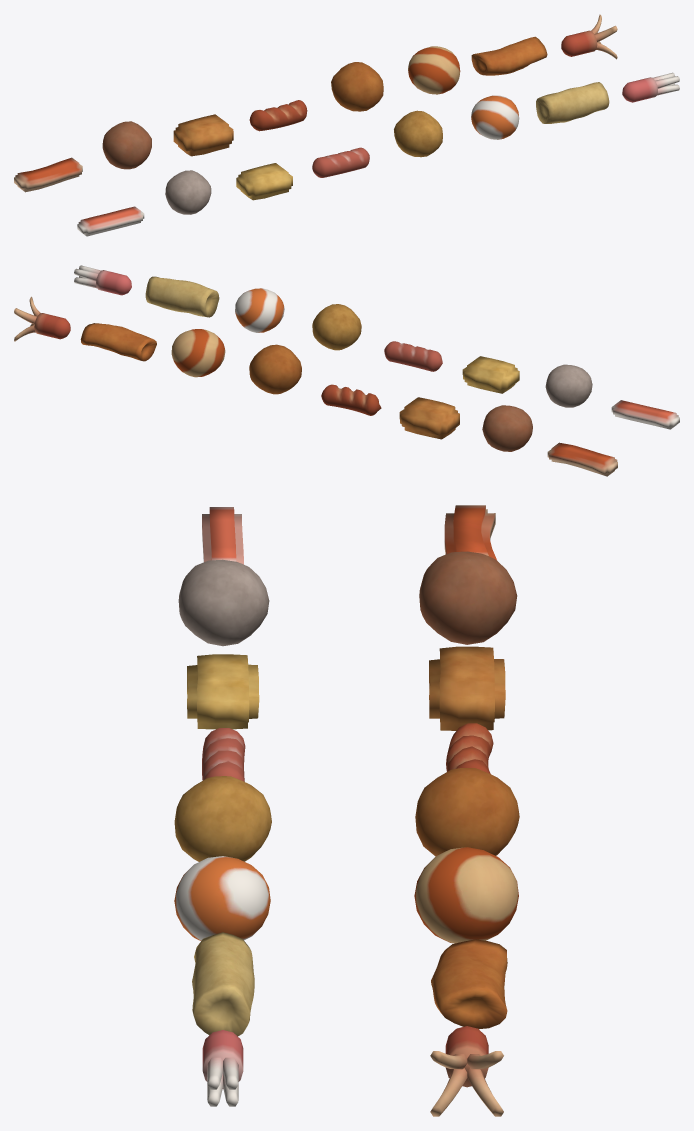
Rendered from Phase2_Meatballs_P1.glb.
The picture shows the model from 3 angles, top to bottom: view 1: azimuth 30°, elevation 25°; view 2: azimuth 150°, elevation 25°; view 3: azimuth 270°, elevation 25°; orthographic projection. The views are drawn at different scales.
Visible parts, largest first — view 1: FriedTofuSkinRoll_Raw, FriedFishBall_Cooked, StripedFishBall_Cooked, FishTofu_Cooked, PorkBall_Cooked, FriedTofuSkinRoll_Cooked, FriedFishBall_Raw, StripedFishBall_Raw, PorkBall_Raw, FishTofu_Raw, CrabStick_Cooked, Sausage_Cooked (+4 smaller); view 2: FriedTofuSkinRoll_Raw, StripedFishBall_Cooked, FriedFishBall_Cooked, FishTofu_Cooked, PorkBall_Cooked, FriedTofuSkinRoll_Cooked, FriedFishBall_Raw, StripedFishBall_Raw, PorkBall_Raw, FishTofu_Raw, CrabStick_Cooked, Sausage_Cooked (+4 smaller); view 3: StripedFishBall_Cooked, FriedFishBall_Cooked, PorkBall_Cooked, FriedFishBall_Raw, StripedFishBall_Raw, PorkBall_Raw, FishTofu_Cooked, FriedTofuSkinRoll_Cooked, FriedTofuSkinRoll_Raw, FishTofu_Raw, CuttlefishSausage_Cooked, CuttlefishSausage_Raw (+4 smaller).
Part boxes in pixels (<box>): FriedTofuSkinRoll_Raw: <box>536,82,609,123</box>; FriedFishBall_Cooked: <box>331,62,383,111</box>; StripedFishBall_Cooked: <box>408,46,460,94</box>; FishTofu_Cooked: <box>173,114,233,156</box>; PorkBall_Cooked: <box>102,121,151,169</box>; FriedTofuSkinRoll_Cooked: <box>471,36,547,75</box>; FriedFishBall_Raw: <box>394,110,442,157</box>; StripedFishBall_Raw: <box>471,95,519,139</box>; PorkBall_Raw: <box>165,170,211,214</box>; FishTofu_Raw: <box>236,163,292,200</box>; CrabStick_Cooked: <box>14,157,82,192</box>; Sausage_Cooked: <box>249,100,307,131</box>; FriedTofuSkinRoll_Raw: <box>145,276,219,317</box>; StripedFishBall_Cooked: <box>171,329,225,377</box>; FriedFishBall_Cooked: <box>249,344,301,394</box>; FishTofu_Cooked: <box>399,397,459,439</box>; PorkBall_Cooked: <box>482,405,532,451</box>; FriedTofuSkinRoll_Cooked: <box>80,323,156,361</box>; FriedFishBall_Raw: <box>312,304,361,350</box>; StripedFishBall_Raw: <box>235,288,284,332</box>; PorkBall_Raw: <box>545,364,592,407</box>; FishTofu_Raw: <box>462,356,519,393</box>; CrabStick_Cooked: <box>547,442,617,476</box>; Sausage_Cooked: <box>321,384,381,415</box>; StripedFishBall_Cooked: <box>414,847,518,943</box>; FriedFishBall_Cooked: <box>415,768,519,856</box>; PorkBall_Cooked: <box>419,551,517,644</box>; FriedFishBall_Raw: <box>174,776,271,861</box>; StripedFishBall_Raw: <box>174,856,270,940</box>; PorkBall_Raw: <box>178,559,269,646</box>; FishTofu_Cooked: <box>429,646,505,730</box>; FriedTofuSkinRoll_Cooked: <box>431,939,507,1029</box>; FriedTofuSkinRoll_Raw: <box>192,932,254,1036</box>; FishTofu_Raw: <box>187,654,259,729</box>; CuttlefishSausage_Cooked: <box>430,1026,503,1116</box>; CuttlefishSausage_Raw: <box>202,1030,243,1106</box>.
Bounding box in the file's own units: 0.62 × 0.05 × 0.1555.
16 materials, 16 textured.
